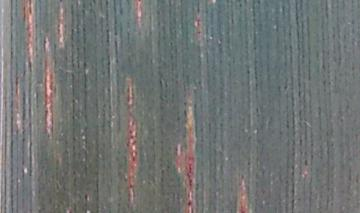tarspot: (83, 194, 88, 201), (186, 200, 191, 207)
